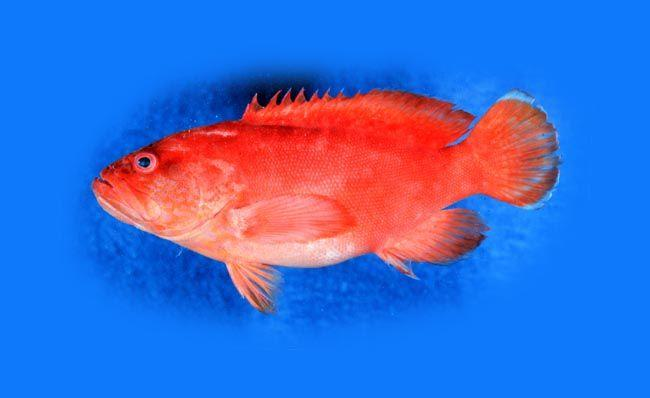fish: (91, 87, 565, 313)
